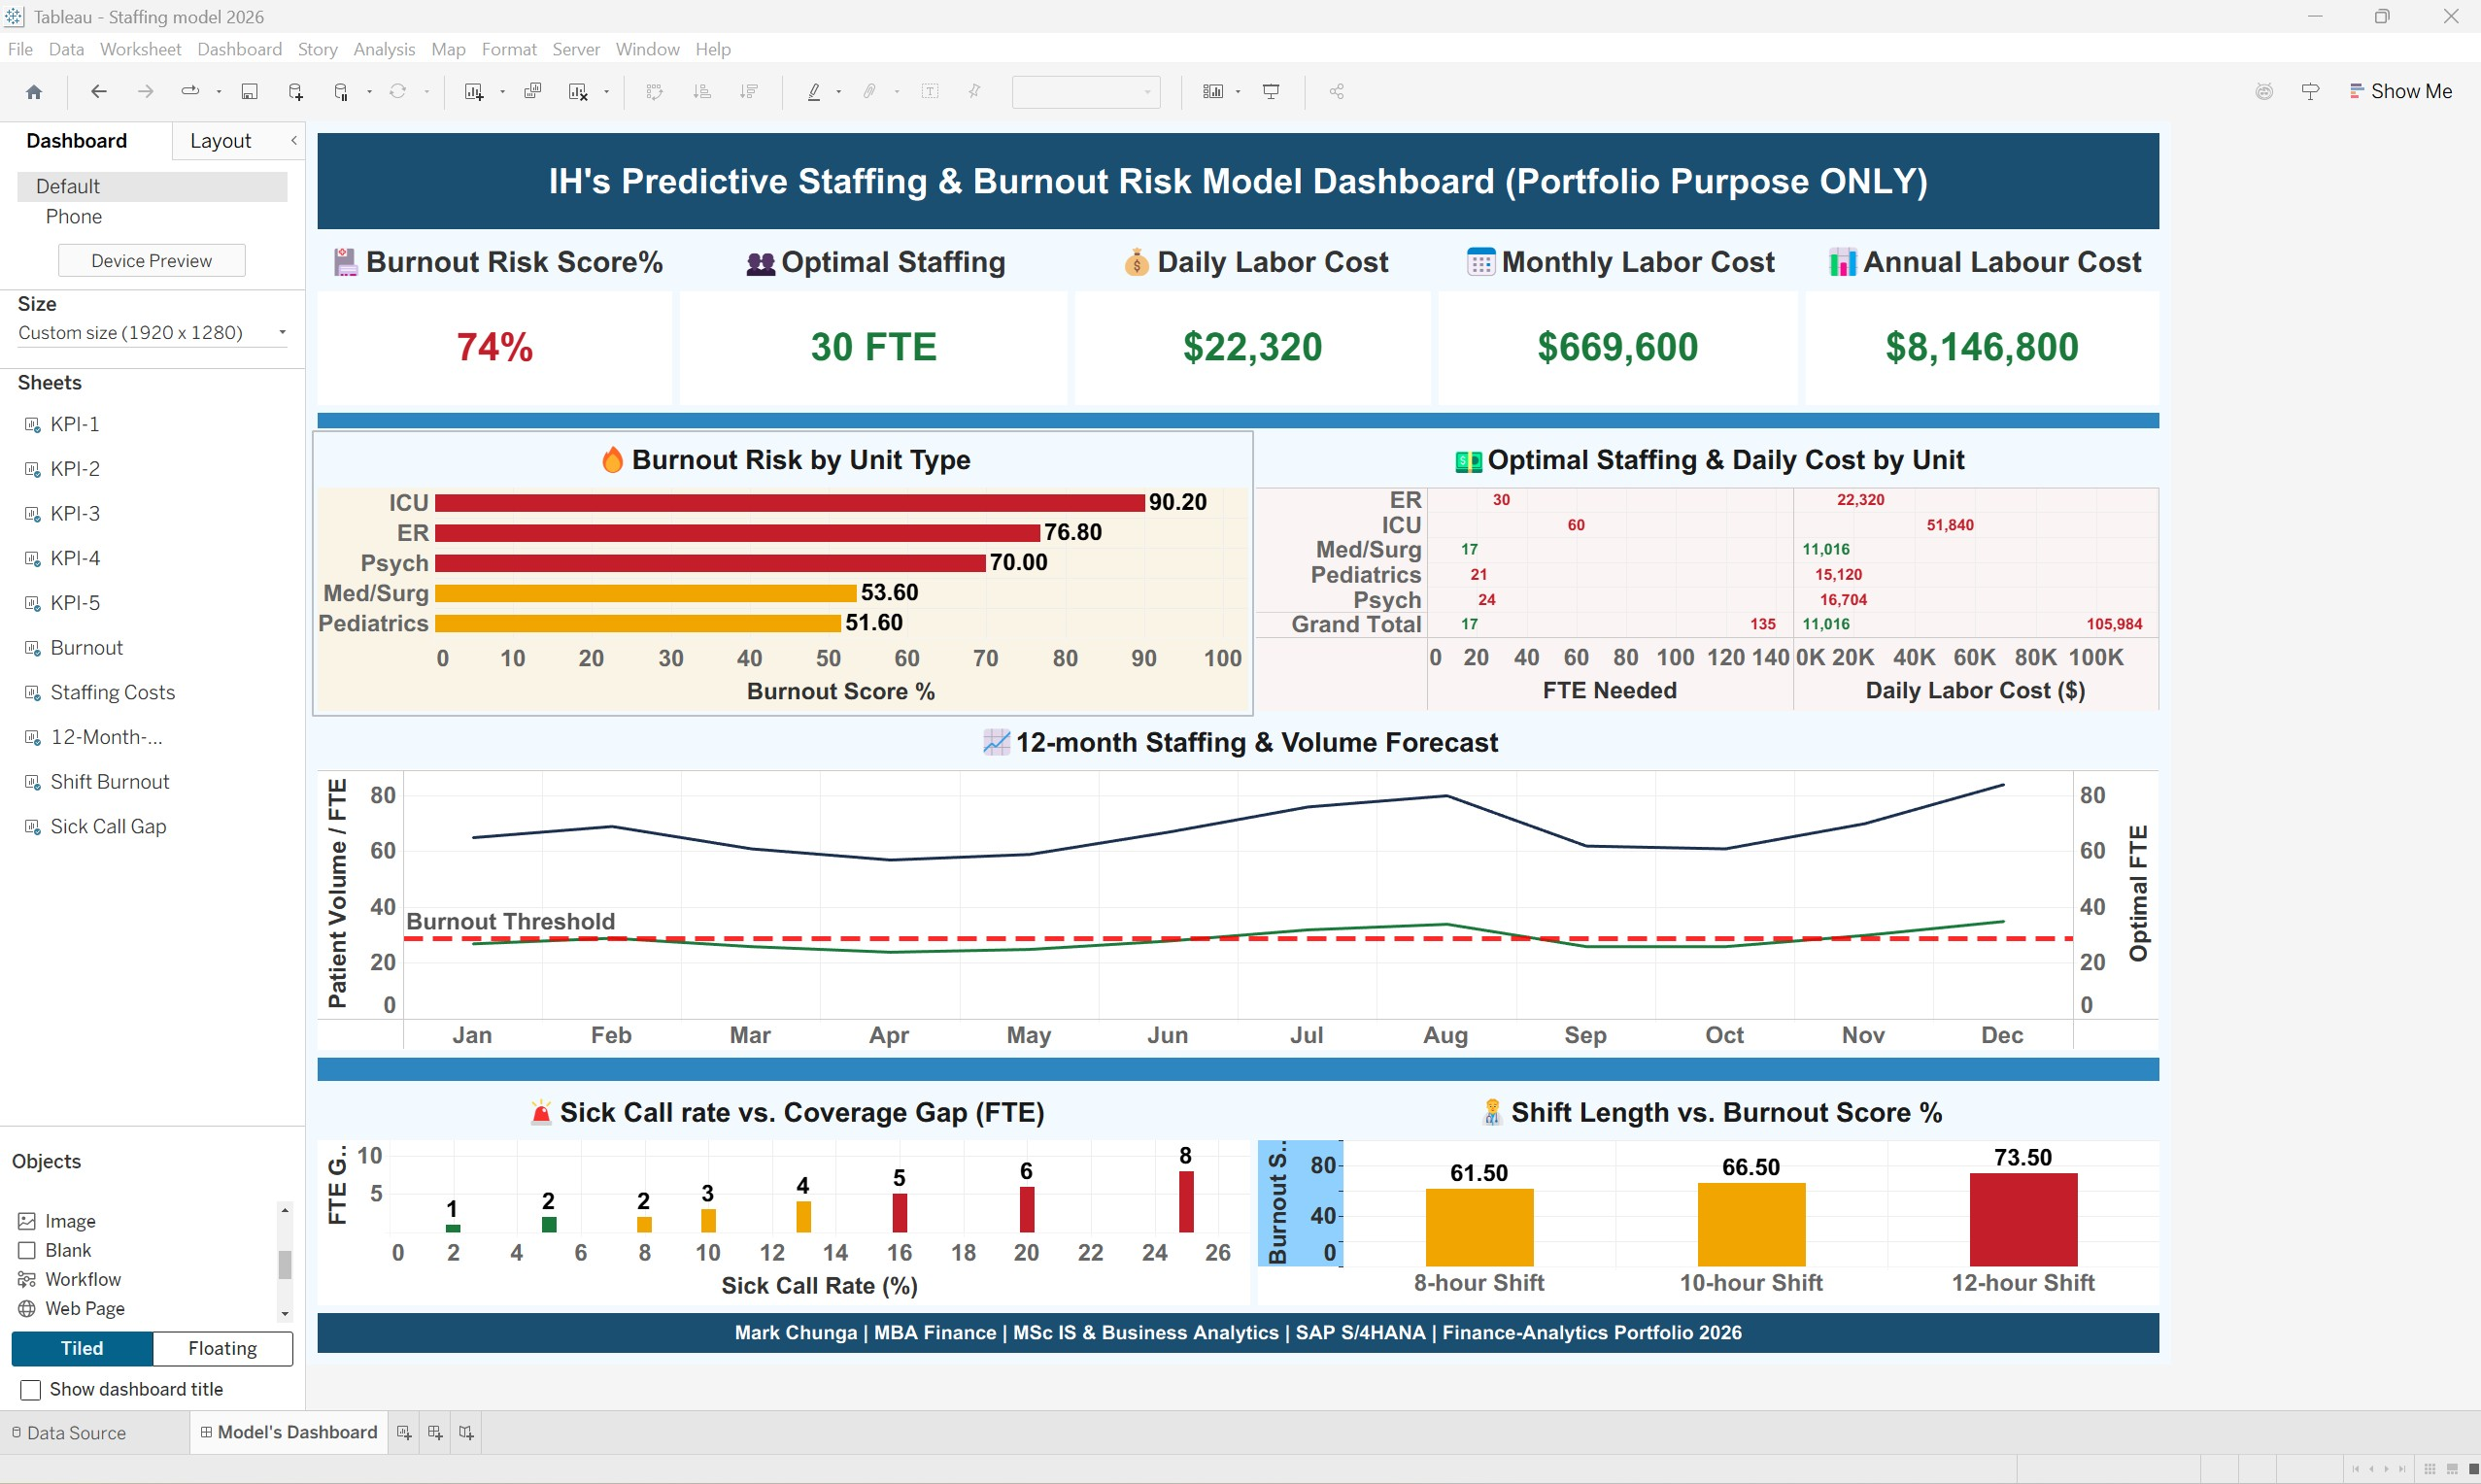

Layout of this report page (visuals, bound fields, positions):
{"tool":"tableau","page":{"name":"Model's Dashboard","canvas":[1920,1280],"ordinal":0},"visuals":[{"type":"text","box":[8,8,1904,107.3]},{"type":"worksheet","title":"KPI-1","mark":"Text","box":[8,115.3,373,180.7]},{"type":"worksheet","title":"KPI-2","mark":"Text","box":[381,115.3,407,180.7]},{"type":"worksheet","title":"KPI-3","mark":"Text","box":[788,115.3,374,180.7]},{"type":"worksheet","title":"KPI-4","mark":"Text","box":[1162,115.3,378,180.7]},{"type":"worksheet","title":"KPI-5","mark":"Text","box":[1540,115.3,372,180.7]},{"type":"blank","box":[8,296,1904,24]},{"type":"worksheet","title":"Burnout","mark":"Bar","rows":["Unit"],"cols":["Burnout_Score_Pct"],"box":[8,320,966,291]},{"type":"worksheet","title":"Staffing Costs","mark":"Text","rows":["Unit"],"cols":["FTE_Needed","Daily_Cost"],"box":[974,320,938,291]},{"type":"worksheet","title":"12-Month-Forecast","mark":"Line","rows":["Patient_Volume","Optimal_FTE"],"cols":["Month"],"box":[8,611,1904,349]},{"type":"blank","box":[8,960,1904,32]},{"type":"worksheet","title":"Sick Call Gap","mark":"Bar","rows":["FTE_Gap"],"cols":["Sick_Call_Rate_Pct"],"box":[8,992,968,231.4]},{"type":"worksheet","title":"Shift Burnout","mark":"Bar","rows":["Burnout_Score_Pct"],"cols":["Shift_Label"],"box":[976,992,936,231.4]},{"type":"text","box":[8,1223.4,1904,48.6]}]}

Visuals, with their boxes on the page's 1920x1280 design canvas (x1, y1, x2, y2). These are canvas units, not pixel positions in the 2481x1484 screenshot, which may show the page scaled, cropped or inside an application window:
text: [left=8, top=8, right=1912, bottom=115]
"KPI-1" worksheet (Text marks): [left=8, top=115, right=381, bottom=296]
"KPI-2" worksheet (Text marks): [left=381, top=115, right=788, bottom=296]
"KPI-3" worksheet (Text marks): [left=788, top=115, right=1162, bottom=296]
"KPI-4" worksheet (Text marks): [left=1162, top=115, right=1540, bottom=296]
"KPI-5" worksheet (Text marks): [left=1540, top=115, right=1912, bottom=296]
blank: [left=8, top=296, right=1912, bottom=320]
"Burnout" worksheet (Bar marks): [left=8, top=320, right=974, bottom=611]
"Staffing Costs" worksheet (Text marks): [left=974, top=320, right=1912, bottom=611]
"12-Month-Forecast" worksheet (Line marks): [left=8, top=611, right=1912, bottom=960]
blank: [left=8, top=960, right=1912, bottom=992]
"Sick Call Gap" worksheet (Bar marks): [left=8, top=992, right=976, bottom=1223]
"Shift Burnout" worksheet (Bar marks): [left=976, top=992, right=1912, bottom=1223]
text: [left=8, top=1223, right=1912, bottom=1272]
